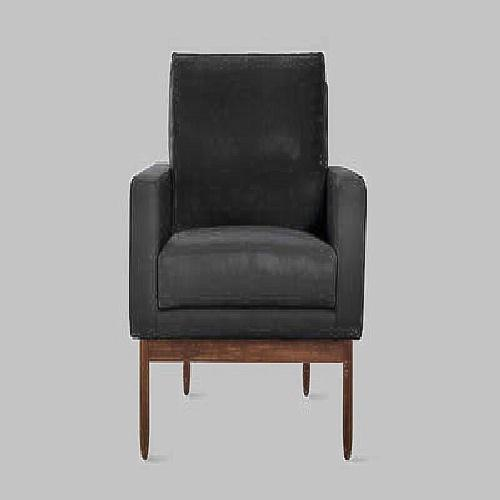chair: (123, 41, 375, 460)
